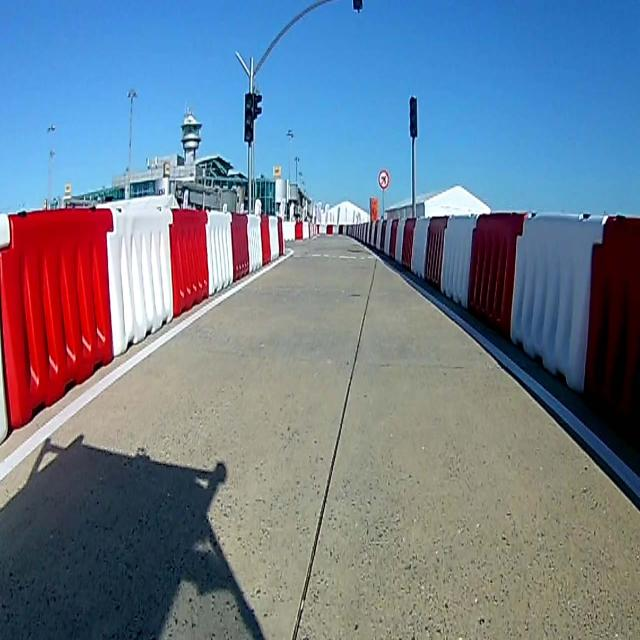soladonulmez: (378, 170, 388, 190)
